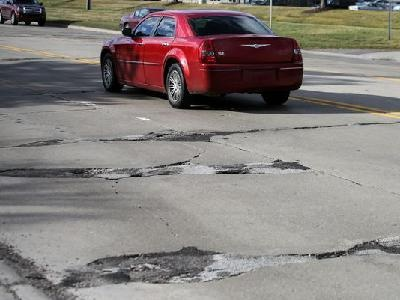pothole: (64, 244, 226, 290), (0, 164, 148, 179), (121, 127, 217, 143), (346, 238, 399, 256), (215, 164, 252, 175)
